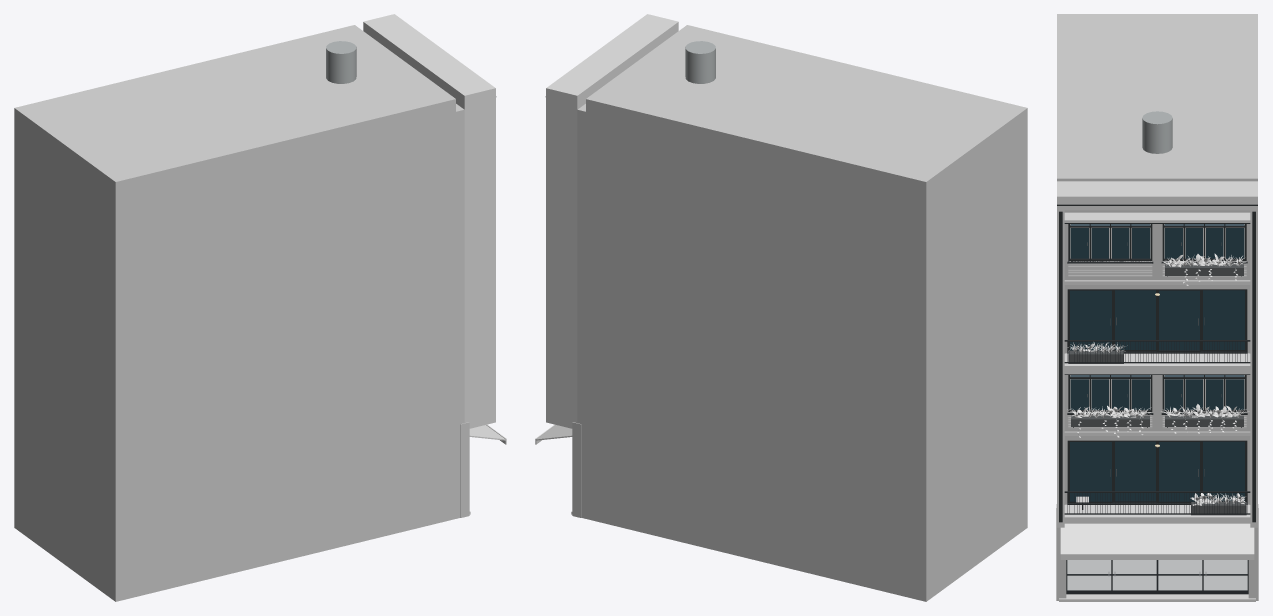
File: OW_Mau_NhaPho_8_0_3.fbx
The picture shows the model from 3 angles, left to right: view 1: azimuth 30°, elevation 25°; view 2: azimuth 150°, elevation 25°; view 3: azimuth 270°, elevation 25°; orthographic projection.
Parts seen in each view (by area): view 1: OW_NhaPho_9046; view 2: OW_NhaPho_9046; view 3: OW_NhaPho_9046, OW_MatTienKinh.
Part boxes in pixels (x1,y1,x2,y2): OW_NhaPho_9046: [14, 14, 506, 601]; OW_NhaPho_9046: [535, 14, 1027, 601]; OW_NhaPho_9046: [1056, 14, 1258, 601]; OW_MatTienKinh: [1066, 560, 1248, 594].
Size of the model in its own units: 17.77 by 19.45 by 8.
